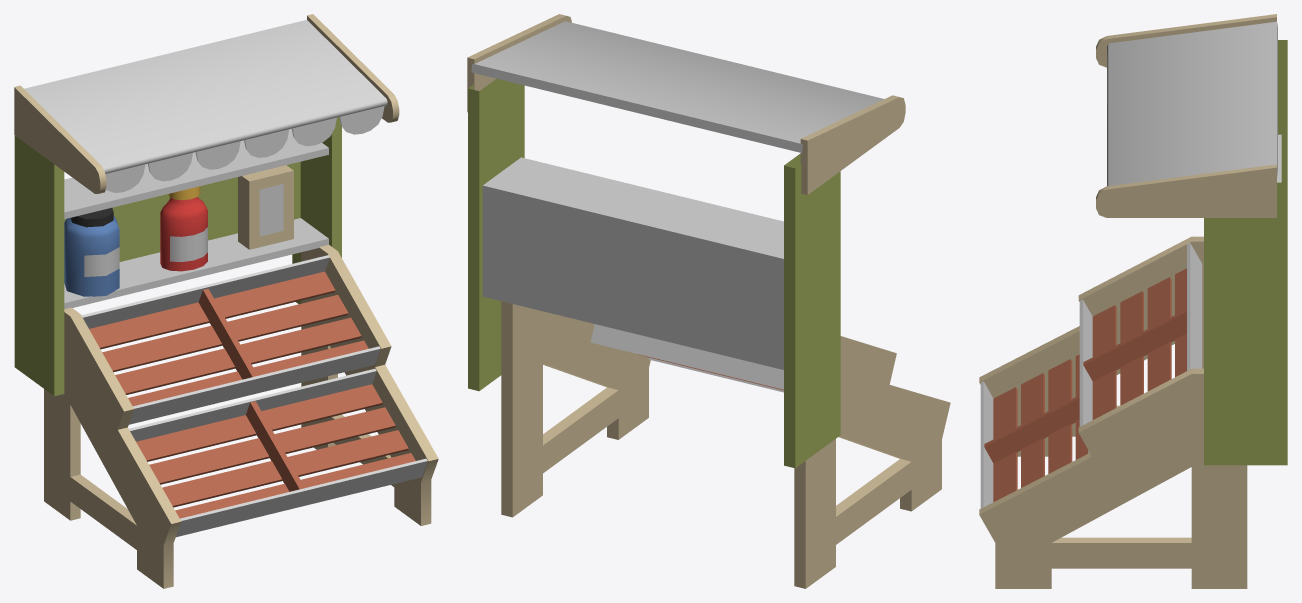
The model's file is Stand_01.fbx.
3 renders of one model, left to right at view 1: azimuth 30°, elevation 25°; view 2: azimuth 150°, elevation 25°; view 3: azimuth 270°, elevation 25°, orthographic. The views are drawn at different scales.
Parts seen in each view (by area): view 1: Stand_01, Stand_01_Box, Stand_01_Jar, Stand_01_Bottle, Stand_01_Jar_Top; view 2: Stand_01; view 3: Stand_01.
Boxes of the visible parts, x1,y1,x2,y2 form: Stand_01: (14,14,438,588); Stand_01_Box: (238,165,293,249); Stand_01_Jar: (64,216,119,296); Stand_01_Bottle: (160,197,207,271); Stand_01_Jar_Top: (70,207,113,227); Stand_01: (467,14,950,588); Stand_01: (979,14,1287,588).
Bounding box in the file's own units: 1.14 × 1.49 × 0.9715.
